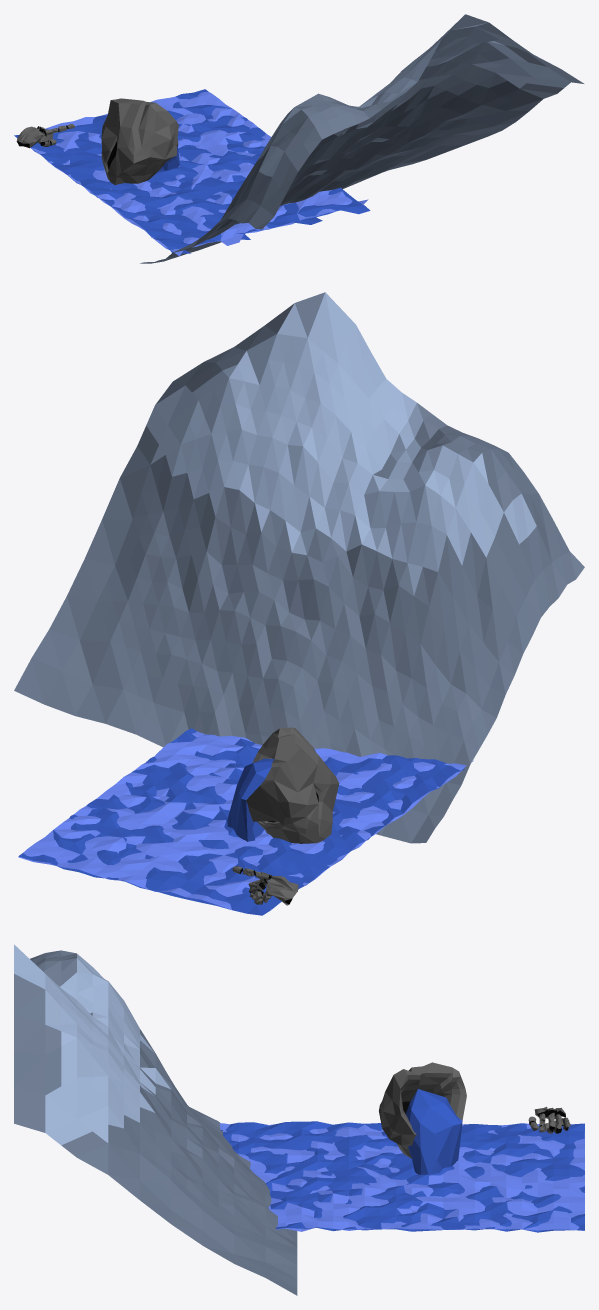
The model's file is Escenario_02.fbx.
3 views of the same model, one above another, from view 1: azimuth 30°, elevation 25°; view 2: azimuth 150°, elevation 25°; view 3: azimuth 270°, elevation 25° (orthographic). The views are drawn at different scales.
Parts seen in each view (by area): view 1: Escenario2Completo; view 2: Escenario2Completo; view 3: Escenario2Completo.
Part boxes in pixels (left/top/right/bottom): Escenario2Completo: left=14, top=14, right=583, bottom=263; Escenario2Completo: left=14, top=292, right=584, bottom=915; Escenario2Completo: left=14, top=944, right=584, bottom=1295.
Bounding box in the file's own units: 11086 × 9400 × 14517.
